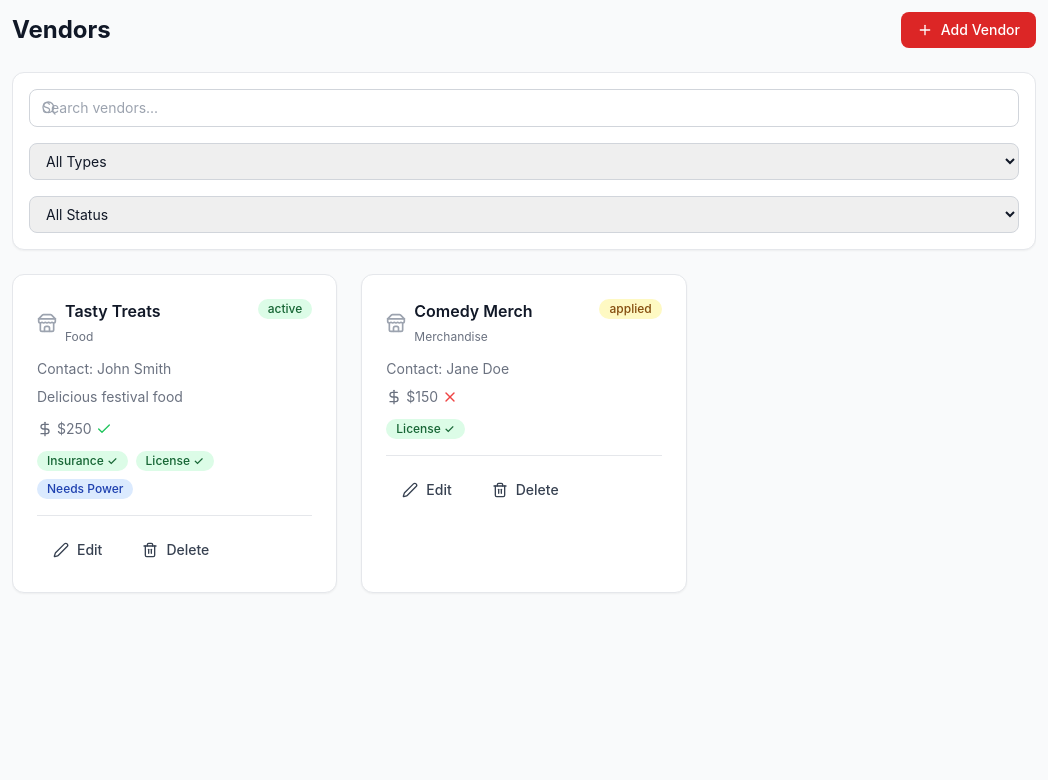
Test: Vendors › search functionality › filters vendors by business name
This screenshot has width=1048, height=780.
expect the heading "Tasty Treats" is shown: met, box [65,299,161,323]
Type "Tasty" into the field with placeholder "Search vendors...".
click(524, 108); type("Tasty")  # box [29,89,1019,127]
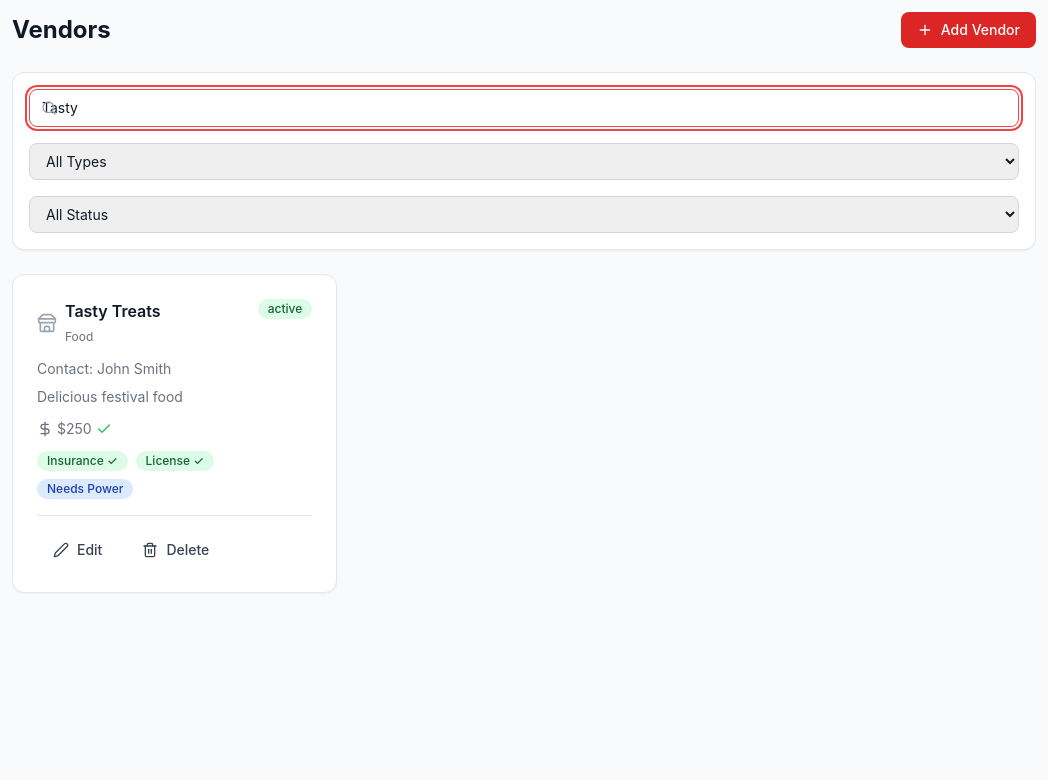
expect the heading "Tasty Treats" is shown: met, box [65,299,161,323]
expect the heading "Comedy Merch" is gone: met
